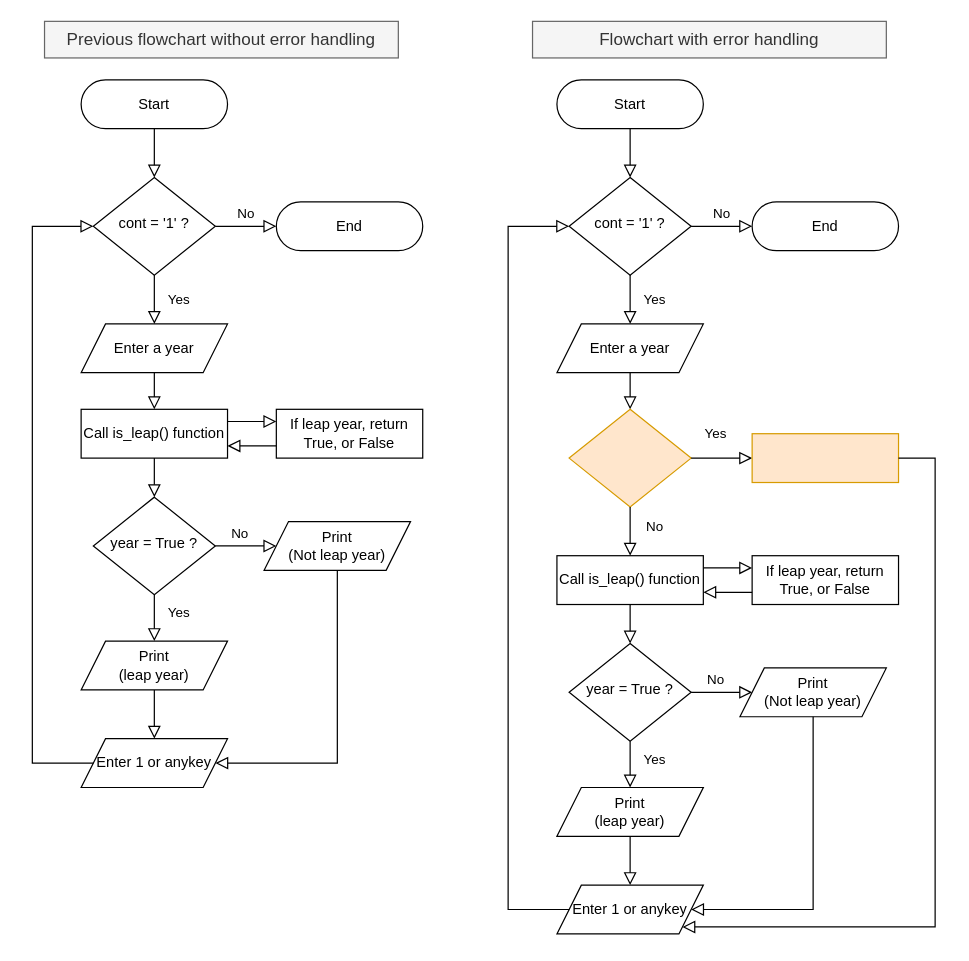
This 969x961 diagram has some shape labels left out. Here are the shapes that lost their labels. From the top down, the box of each, then its label:
(568, 408, 691, 507): Value error?
(751, 432, 899, 483): Print ERROR: Invalid input
